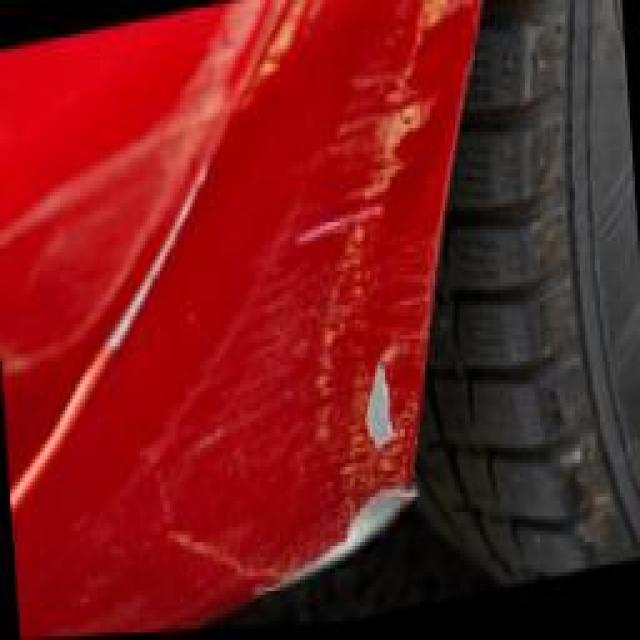Bumper: (0, 0, 540, 640)
